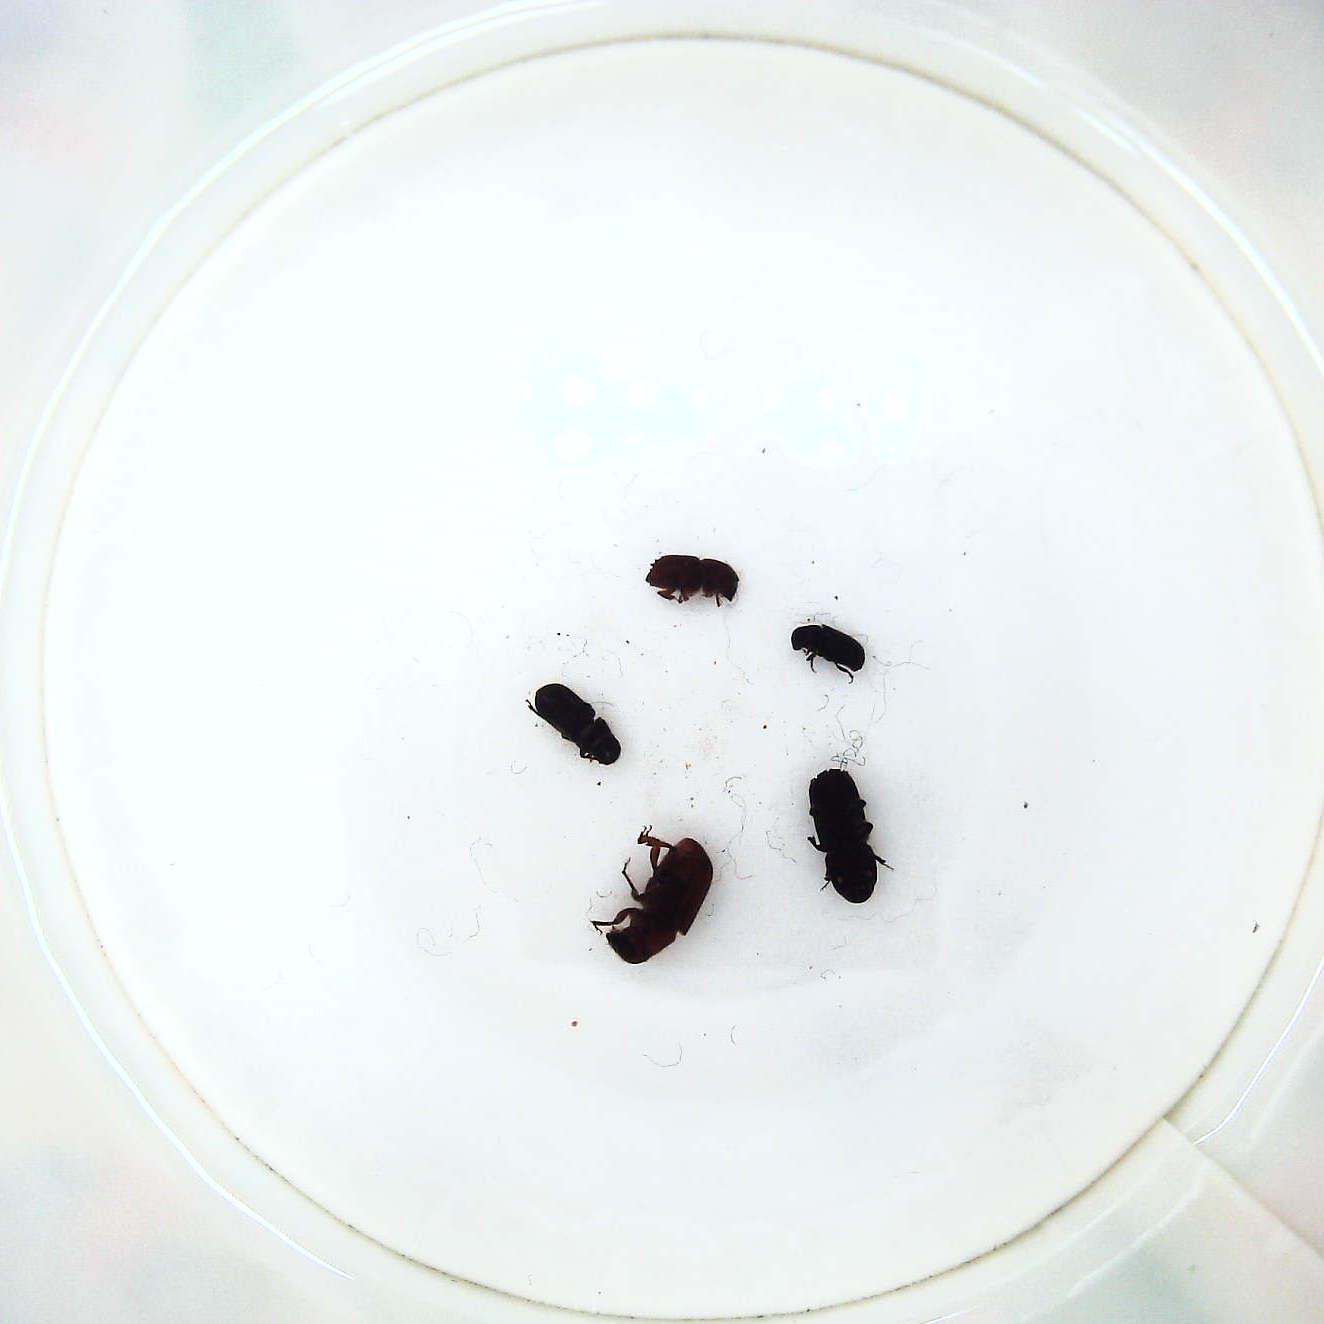Boerner: (800, 765, 890, 909)
Leconte: (590, 826, 720, 965)
armandi: (523, 677, 624, 769)
coleoptera: (786, 616, 871, 681)
linnaeus: (639, 548, 744, 609)
